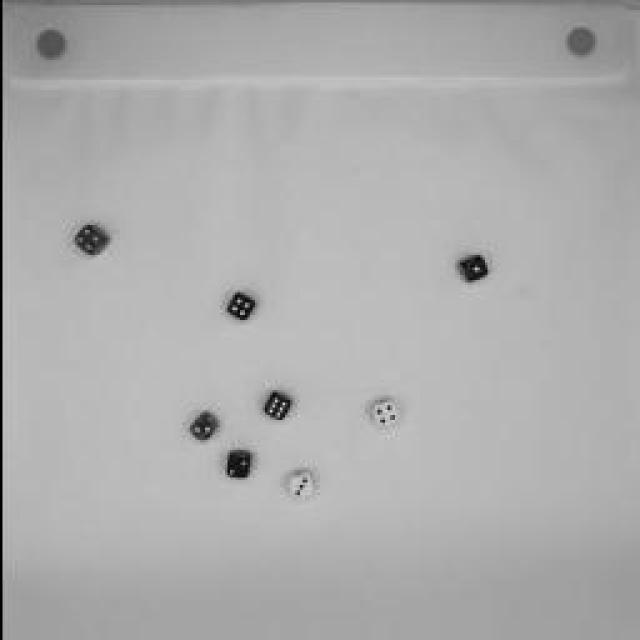dice_1: (454, 250, 491, 285)
dice_2: (185, 410, 220, 442), (222, 448, 252, 482)
dice_3: (282, 465, 320, 503)
dice_4: (69, 220, 111, 260), (222, 288, 258, 324), (368, 394, 400, 428)
dice_6: (259, 389, 296, 421)
